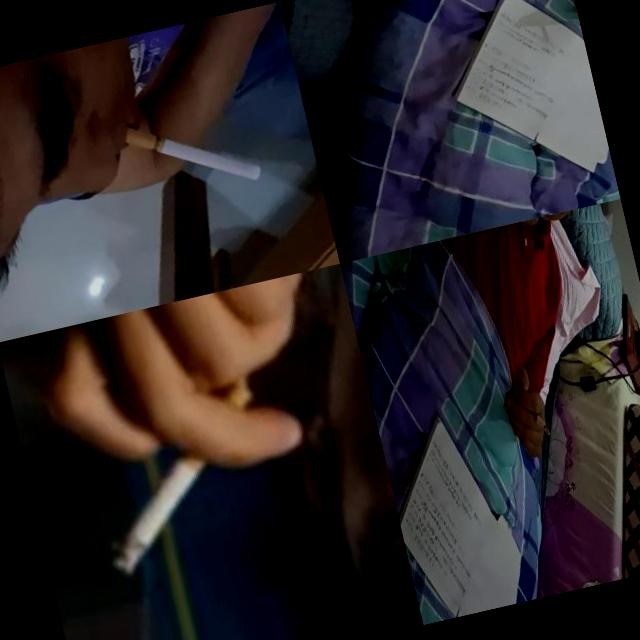smoke: (78, 378, 286, 580), (123, 98, 263, 206), (532, 408, 550, 438)
